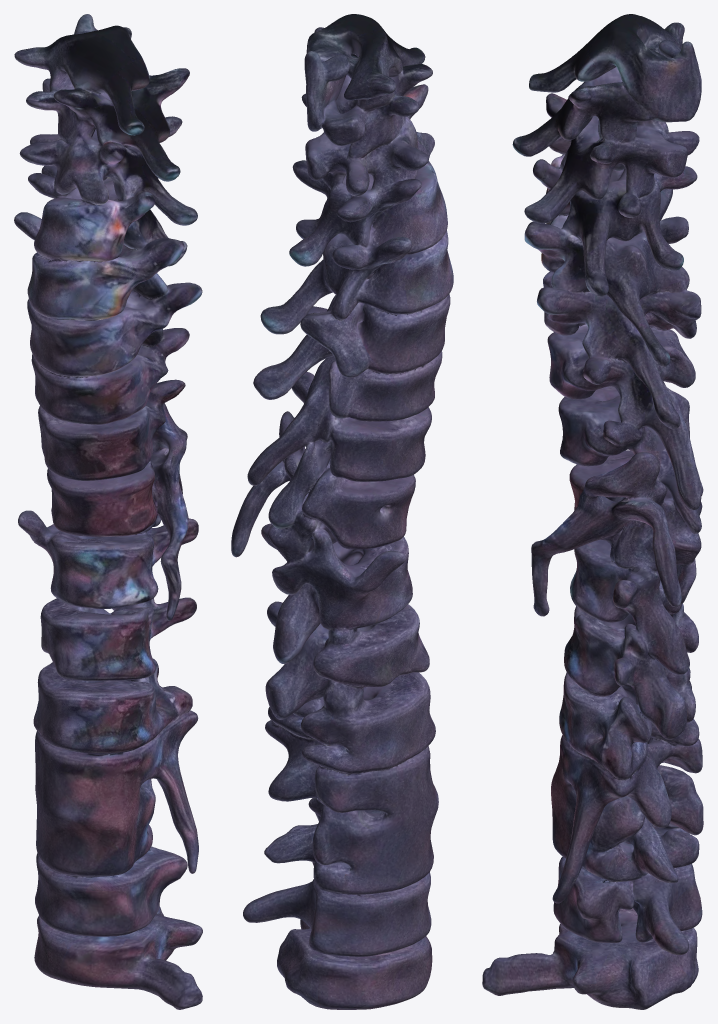
The model's file is spinenw-opt.glb.
3 views of the same model, side by side, from view 1: azimuth 30°, elevation 25°; view 2: azimuth 150°, elevation 25°; view 3: azimuth 270°, elevation 25° (orthographic). The views are drawn at different scales.
Parts seen in each view (by area): view 1: mesh_node; view 2: mesh_node; view 3: mesh_node.
Boxes of the visible parts, x1,y1,x2,y2 form: mesh_node: (14, 14, 202, 1009); mesh_node: (231, 14, 453, 1009); mesh_node: (482, 14, 703, 1009).
Size of the model in its own units: 0.3734 by 1.9 by 0.3975.
Materials: 1 (1 with a texture image).
